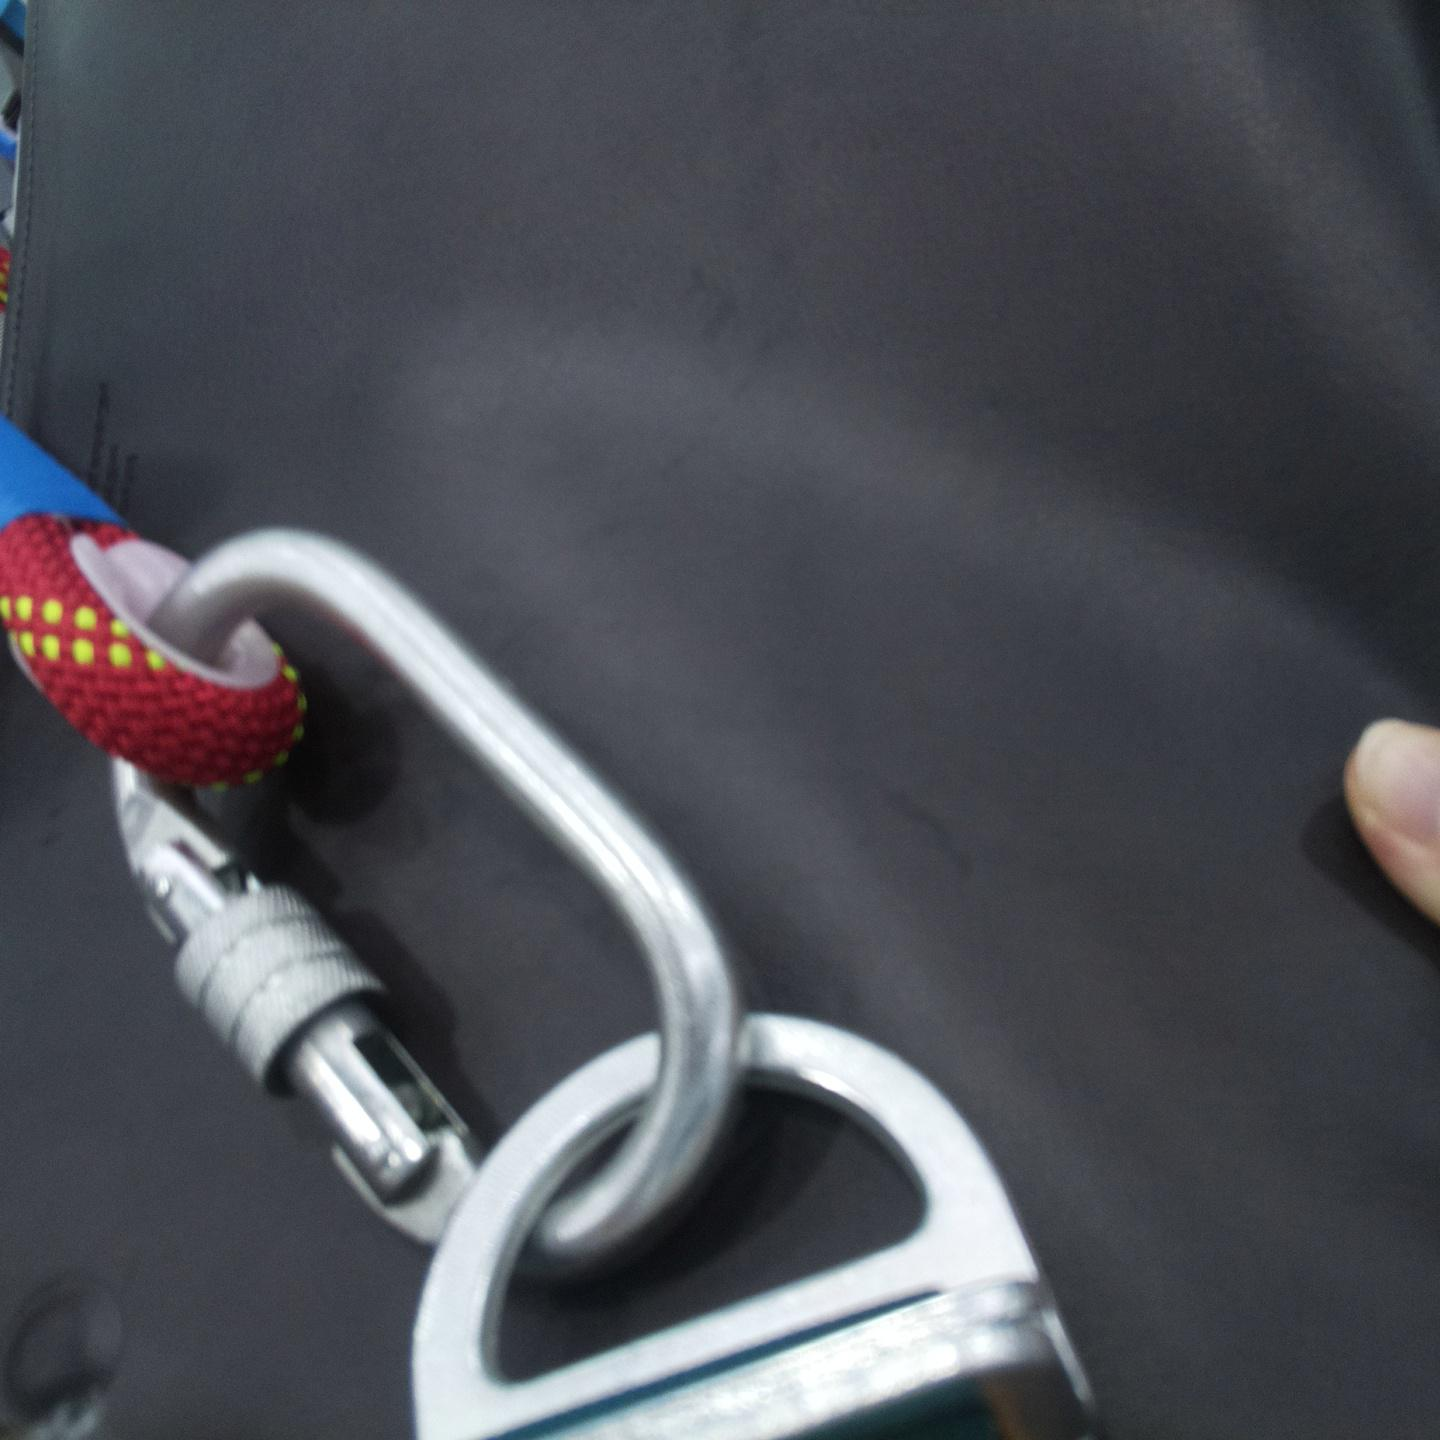SUCCESS: (169, 843, 1092, 1400)
